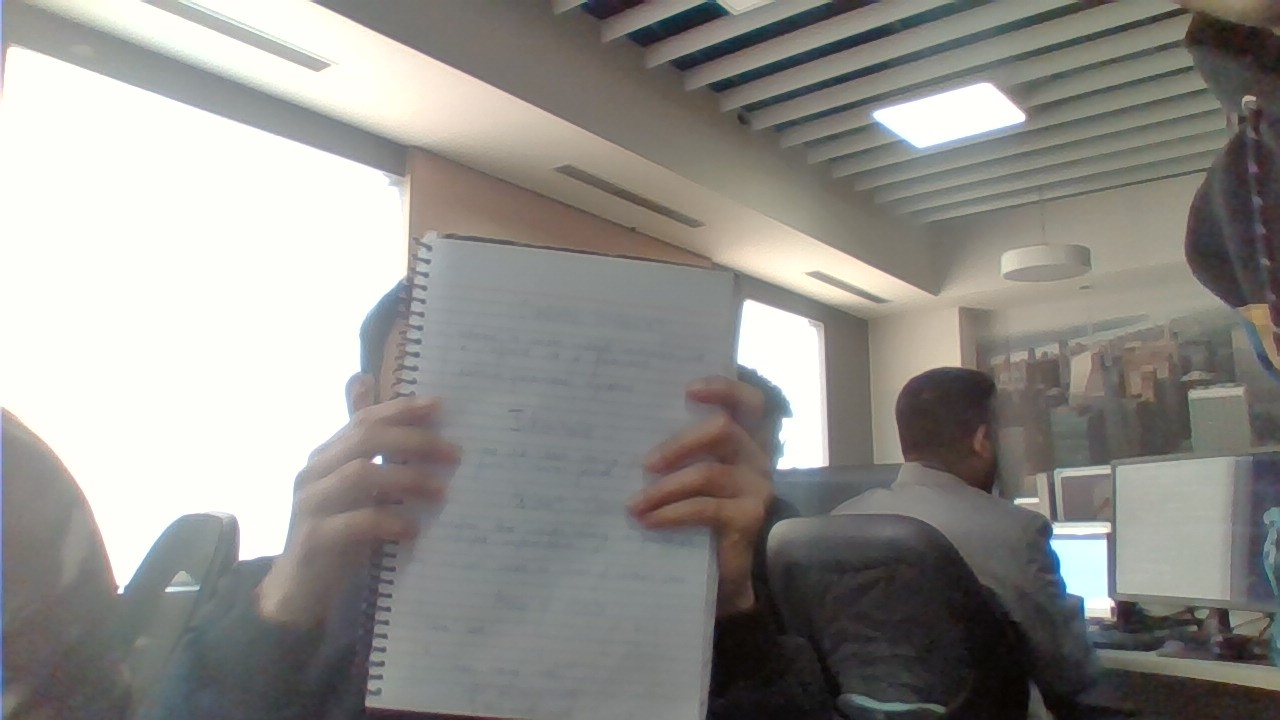notebook: (361, 234, 743, 720)
